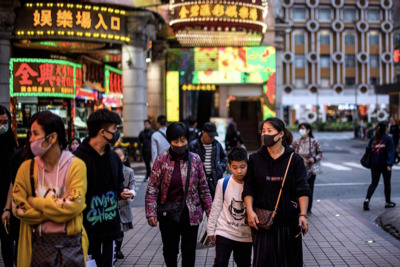mask_weared_incorrect: (29, 127, 50, 157)
with_mask: (170, 134, 189, 156), (261, 125, 281, 145), (103, 125, 121, 146), (1, 116, 10, 133), (298, 125, 309, 138)
without_mask: (231, 162, 249, 178), (205, 132, 215, 143)
